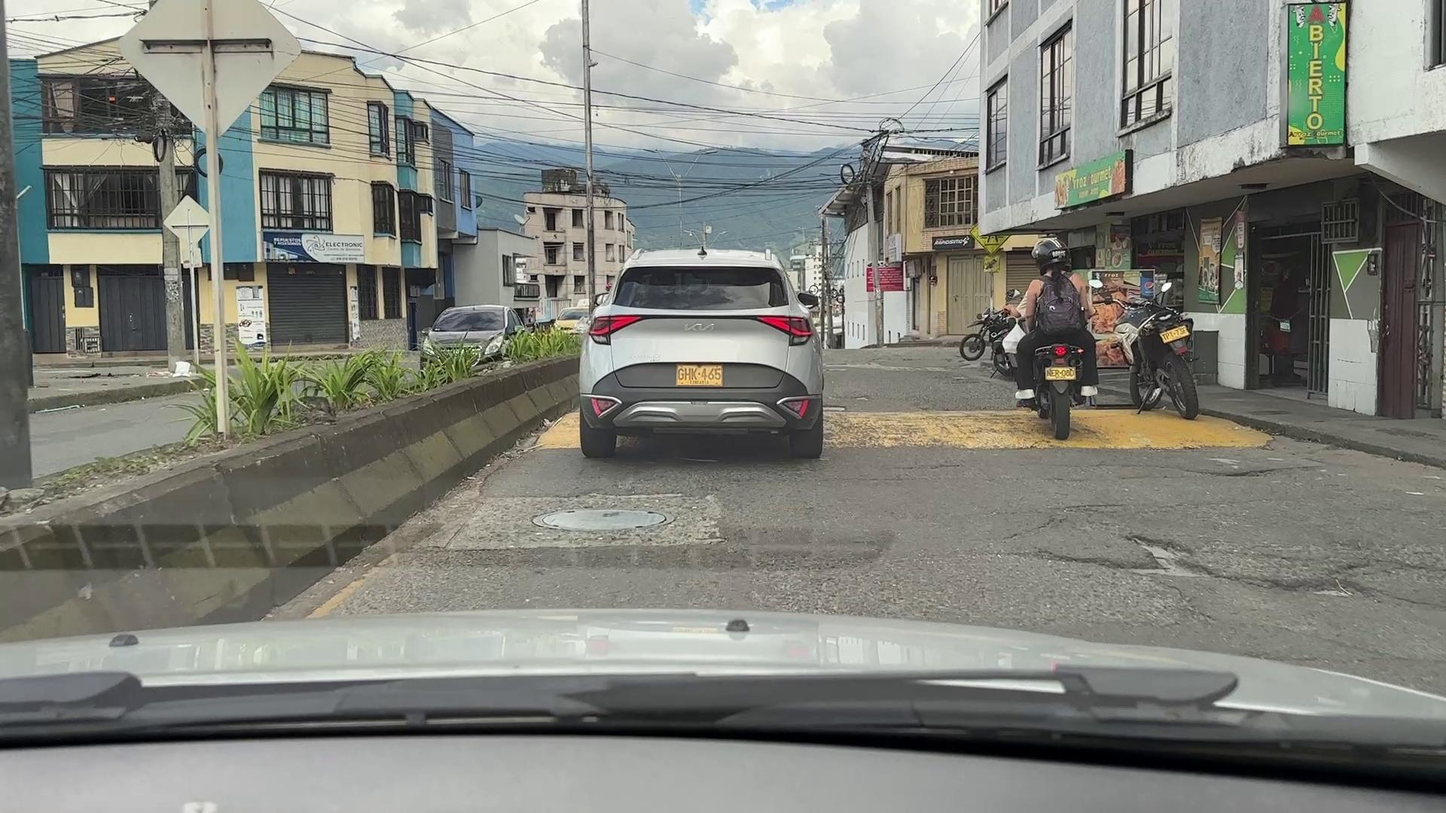bache: (1057, 535, 1374, 597), (1187, 468, 1276, 477), (822, 405, 846, 411), (852, 396, 868, 401)
registro: (533, 509, 670, 531)
